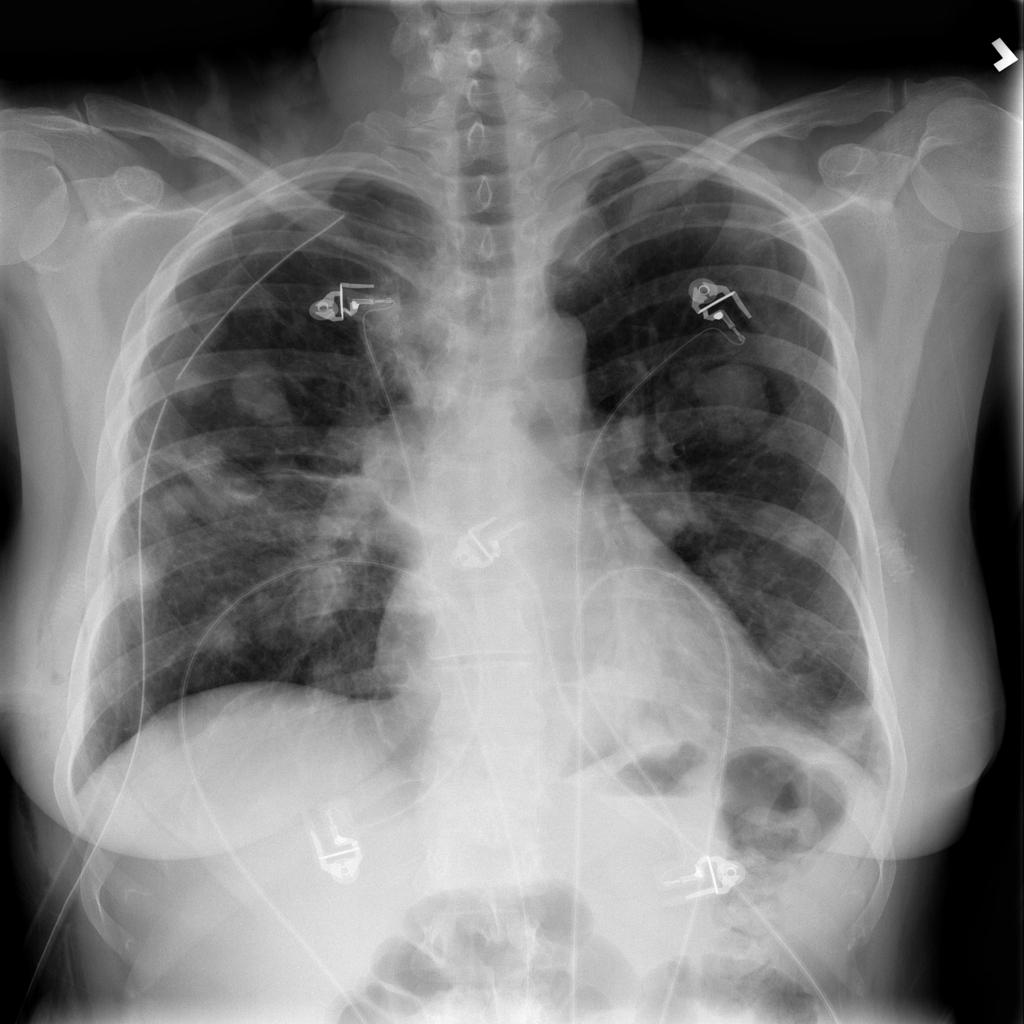nodule: (676, 341, 784, 455), (222, 354, 302, 432), (183, 595, 260, 671), (808, 692, 888, 764), (178, 436, 257, 503), (107, 542, 178, 616), (175, 289, 249, 357), (152, 354, 228, 417), (150, 479, 207, 529)
